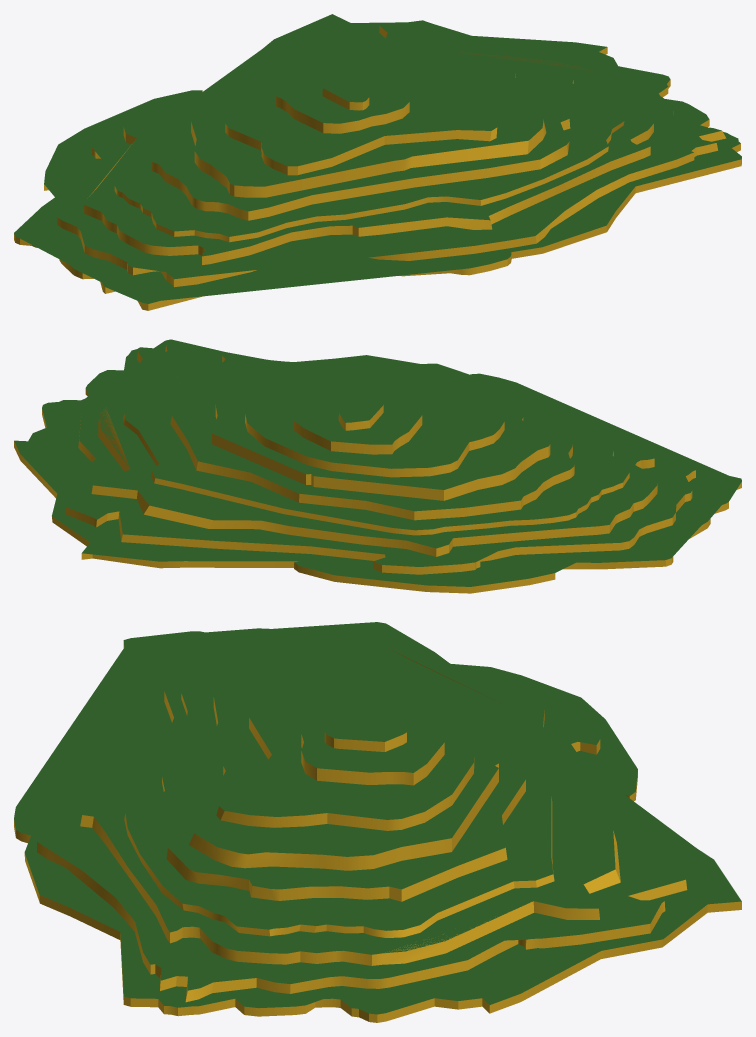
The model's file is RiceTerraces.fbx.
3 views of the same model, one above another, from view 1: azimuth 30°, elevation 25°; view 2: azimuth 150°, elevation 25°; view 3: azimuth 270°, elevation 25° (orthographic). The views are drawn at different scales.
Visible parts, largest first — view 1: rice; view 2: rice; view 3: rice.
Boxes of the visible parts, bbox=[...] form: rice: bbox=[14, 14, 741, 310]; rice: bbox=[14, 339, 741, 593]; rice: bbox=[14, 622, 741, 1022].
Size of the model in its own units: 2327 by 261 by 1824.
